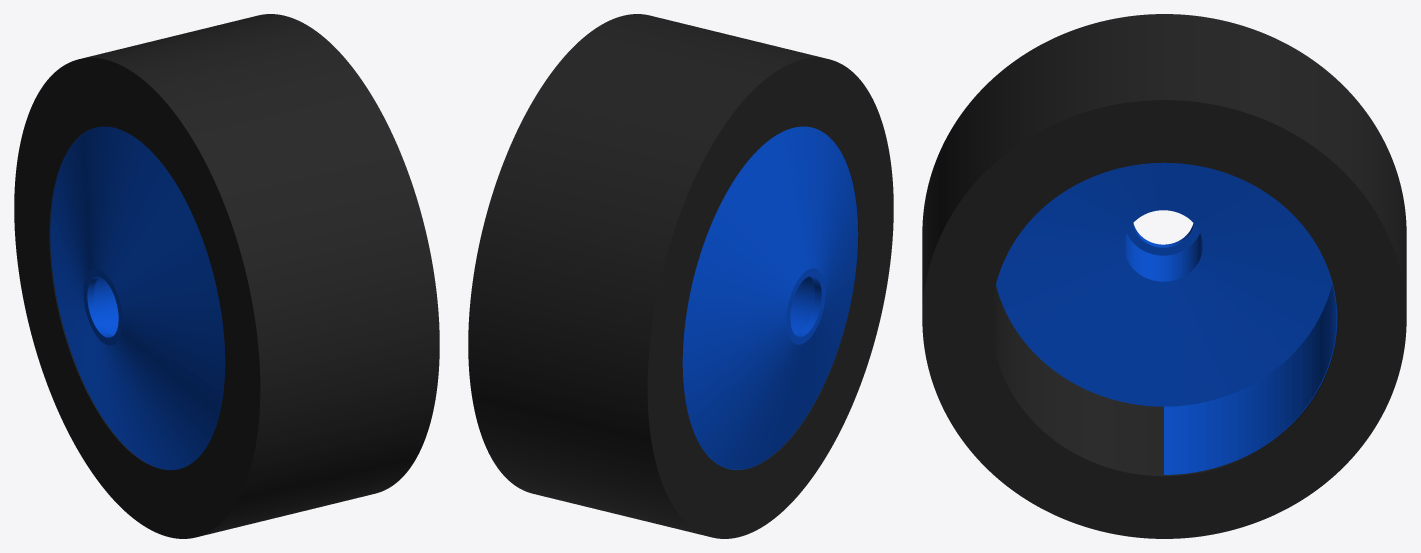
The model's file is wheel2.dae.
3 renders of one model, left to right at view 1: azimuth 30°, elevation 25°; view 2: azimuth 150°, elevation 25°; view 3: azimuth 270°, elevation 25°, orthographic.
Visible parts, largest first — view 1: wheel2.001; view 2: wheel2.001; view 3: wheel2.001.
Boxes of the visible parts, x1,y1,x2,y2 form: wheel2.001: (14,14,439,538); wheel2.001: (468,14,893,538); wheel2.001: (922,14,1406,538).
Size of the model in its own units: 31.65 by 63 by 63.
